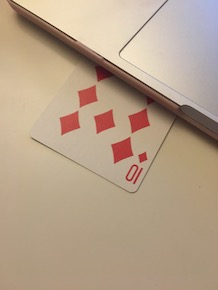TenOfDiamonds: (28, 53, 177, 196)
